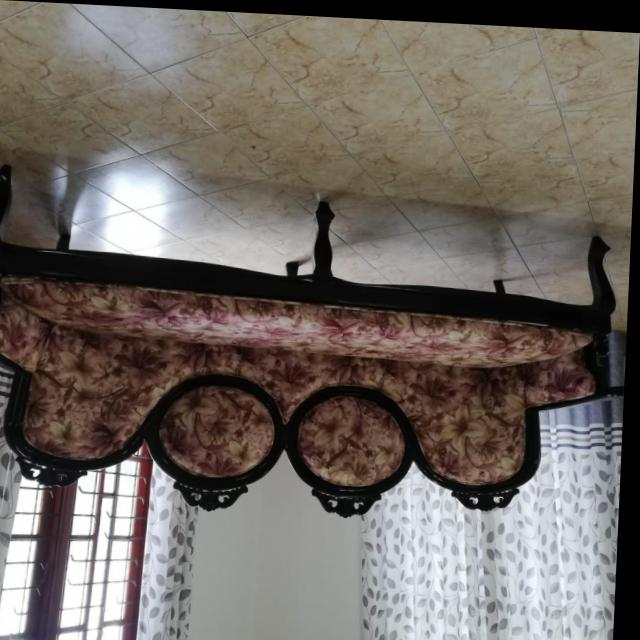Sofa: (0, 166, 622, 526)
